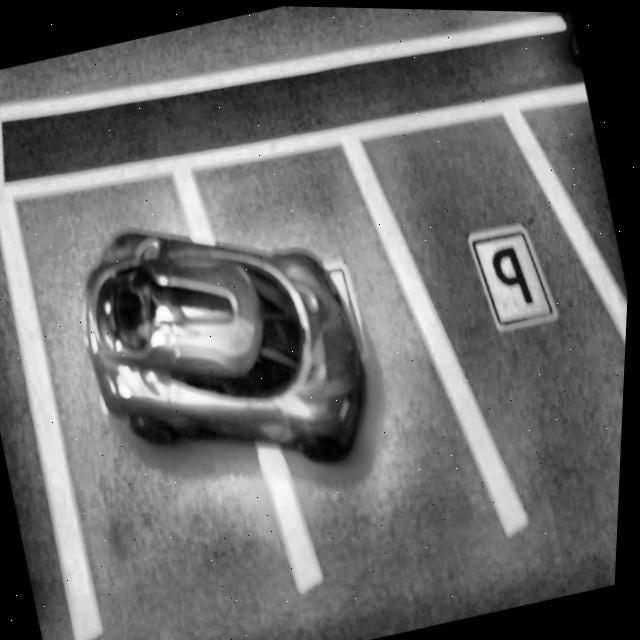car: (56, 179, 396, 514)
